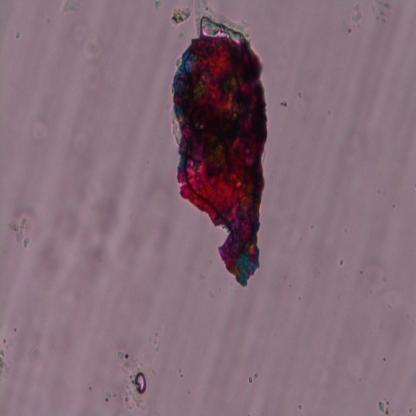Background material: (104, 349, 166, 411), (83, 168, 128, 248), (5, 200, 37, 248), (347, 1, 393, 28), (72, 14, 100, 58), (0, 336, 17, 376), (60, 1, 84, 15), (377, 396, 391, 414)
Fragment: (170, 5, 270, 293)
